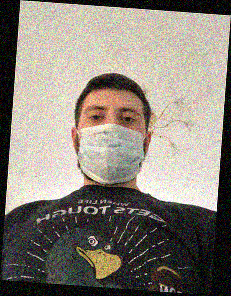with_mask: (77, 100, 145, 185)
